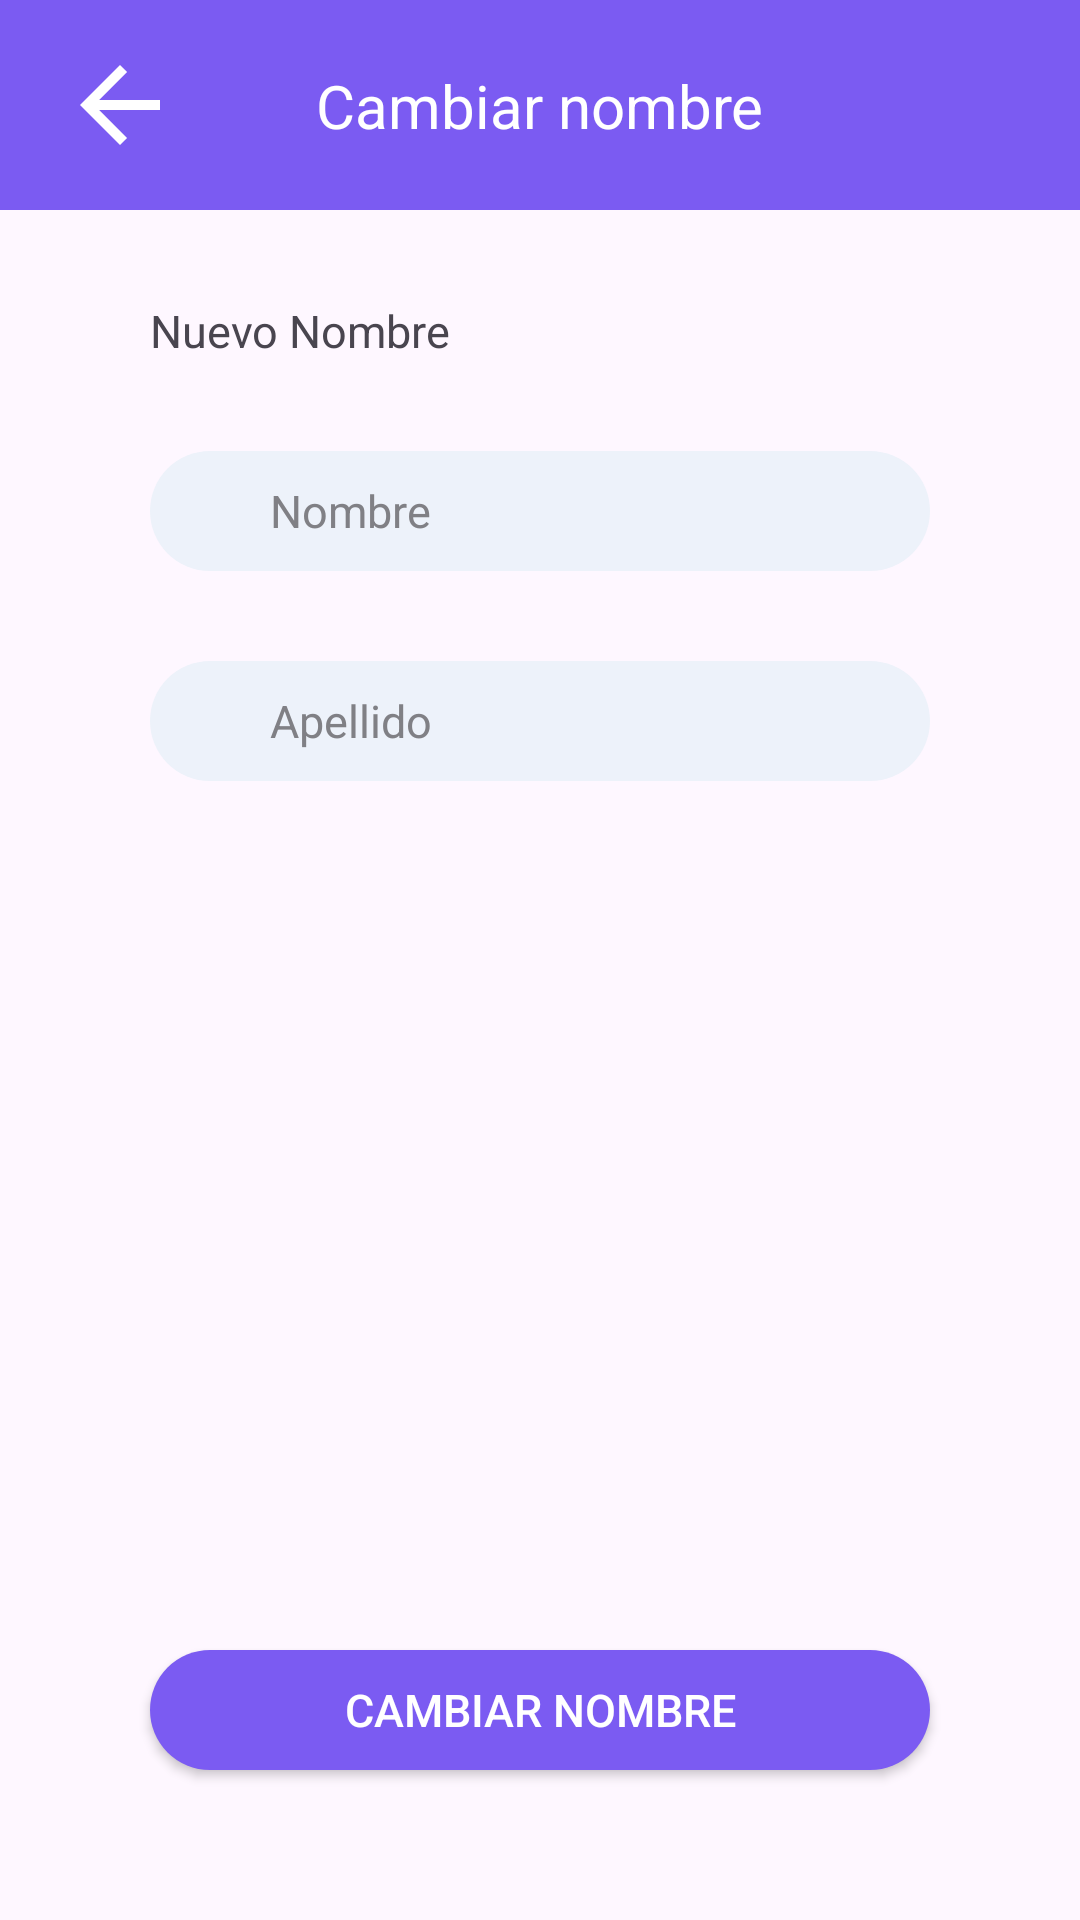

Icon bounding boxes for this 1080w x 1920h phone screenshot, format (x1, y1, x2, y2):
back arrow: (80, 65, 160, 145)
